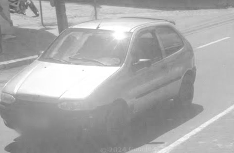car: (1, 17, 197, 143)
